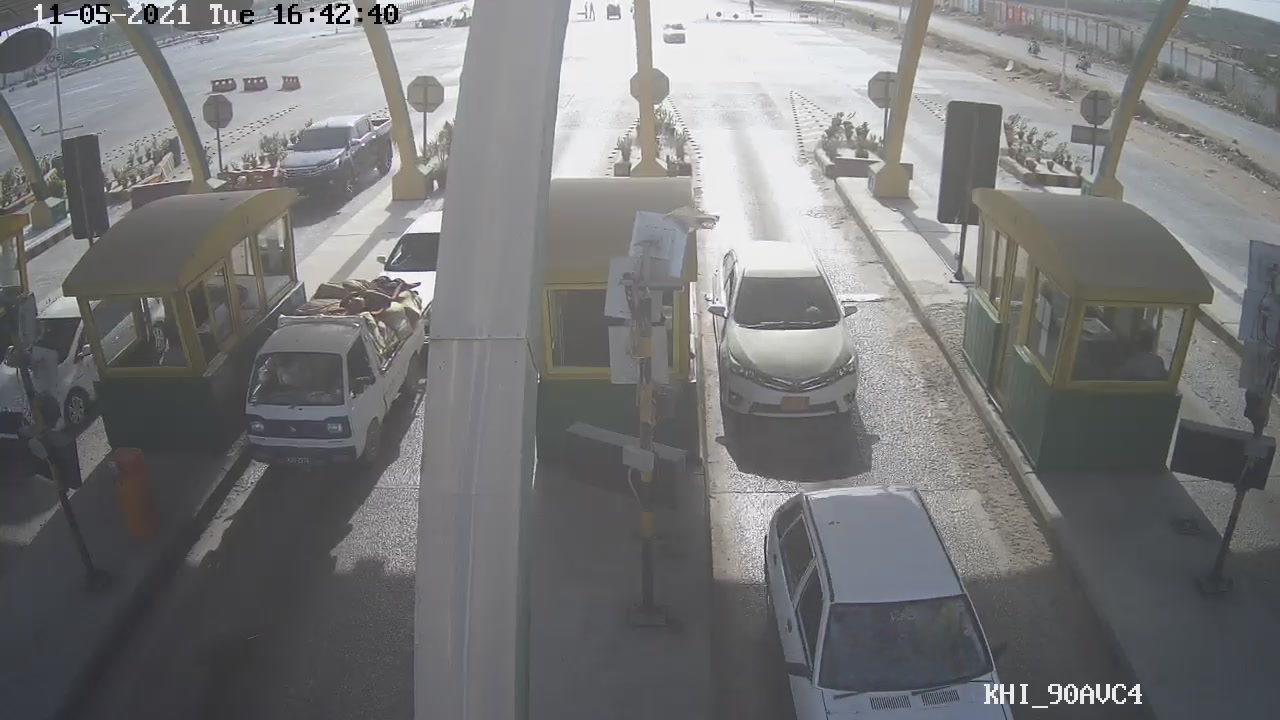F1: (708, 241, 871, 426)
